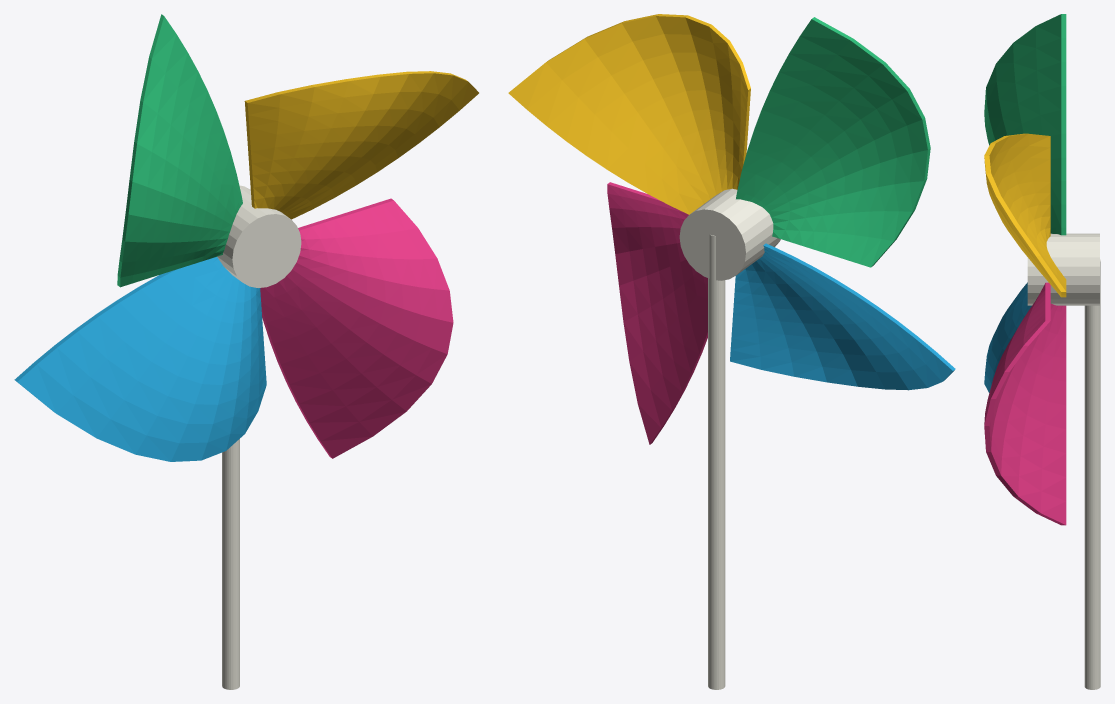
The model's file is NEW_RECOVERY_088_LOD0.glb.
3 views of the same model, side by side, from view 1: azimuth 30°, elevation 25°; view 2: azimuth 150°, elevation 25°; view 3: azimuth 270°, elevation 25° (orthographic). The views are drawn at different scales.
Parts seen in each view (by area): view 1: Pinwheel_static_whole; view 2: Pinwheel_static_whole; view 3: Pinwheel_static_whole.
Part boxes in pixels (left/top/right/bottom): Pinwheel_static_whole: left=14, top=14, right=478, bottom=689; Pinwheel_static_whole: left=508, top=14, right=955, bottom=689; Pinwheel_static_whole: left=984, top=14, right=1100, bottom=689.
Bounding box in the file's own units: 1.67 × 2.43 × 0.4039.
